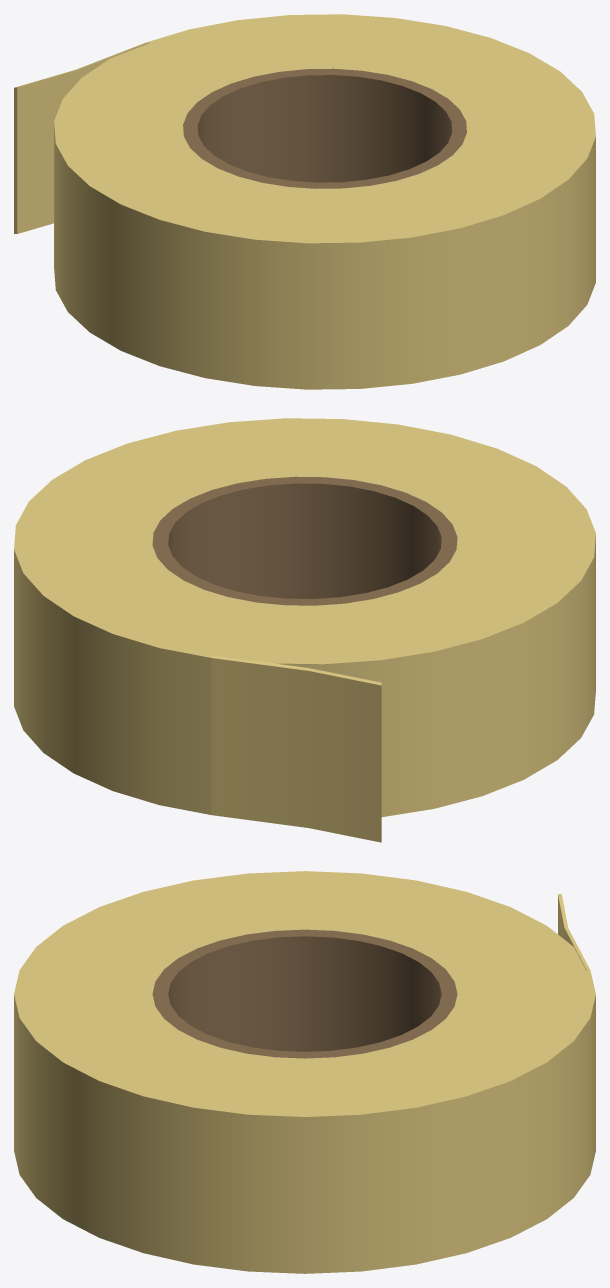
File: Tape.fbx
3 renders of one model, top to bottom at view 1: azimuth 30°, elevation 25°; view 2: azimuth 150°, elevation 25°; view 3: azimuth 270°, elevation 25°, orthographic. The views are drawn at different scales.
Visible parts, largest first — view 1: Circle; view 2: Circle; view 3: Circle.
Boxes of the visible parts, x1,y1,x2,y2 form: Circle: (14,14,595,389); Circle: (14,418,595,842); Circle: (14,871,595,1273).
Bounding box in the file's own units: 13.56 × 13.56 × 4.06.
